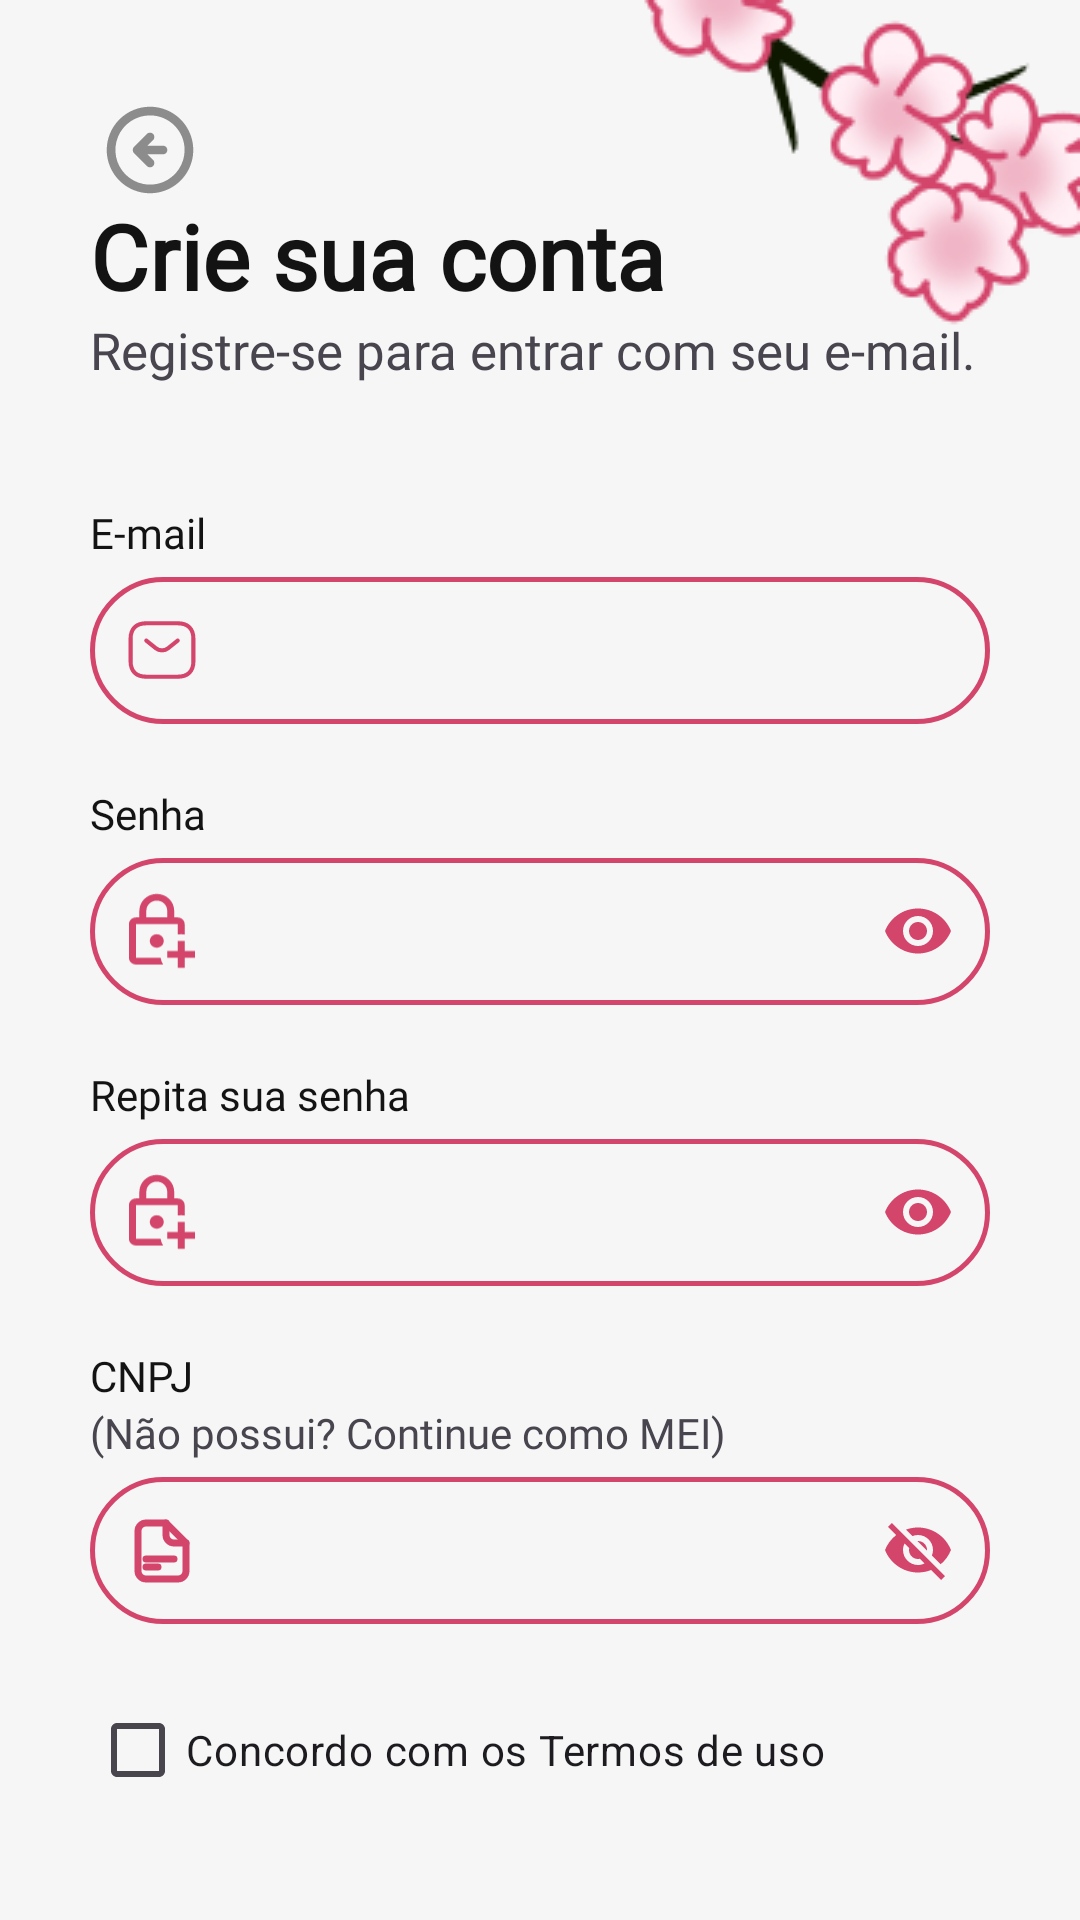

Named icons in this screenshot (1080px×1920px) and their bounding boxes, (x1=x1, y1=y1, x2=x2, y2=y2):
arrow: (x1=106, y1=106, x2=194, y2=194)
